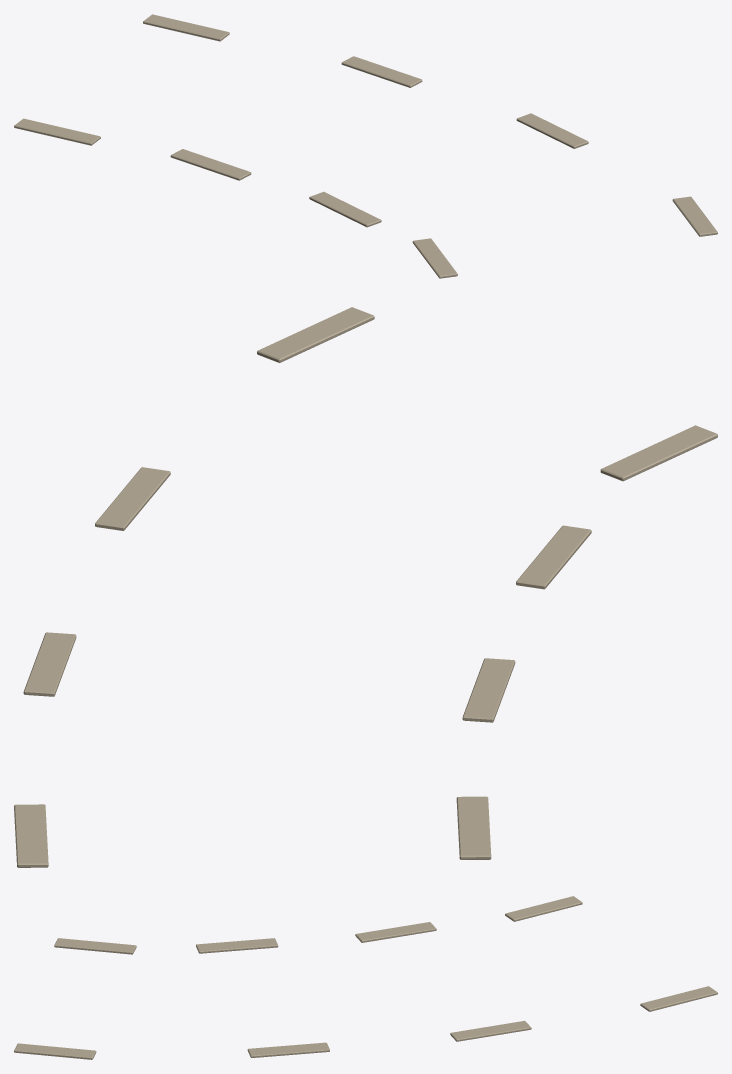
File: Sector4_SandstoneTrim_1.fbx
3 renders of one model, top to bottom at view 1: azimuth 30°, elevation 25°; view 2: azimuth 150°, elevation 25°; view 3: azimuth 270°, elevation 25°, orthographic. The views are drawn at different scales.
Parts seen in each view (by area): view 1: Sector4_SandstoneTrim_1; view 2: Sector4_SandstoneTrim_1; view 3: Sector4_SandstoneTrim_1.
Boxes of the visible parts, x1=… form: Sector4_SandstoneTrim_1: x1=14, y1=14, x2=717, y2=278; Sector4_SandstoneTrim_1: x1=14, y1=307, x2=717, y2=867; Sector4_SandstoneTrim_1: x1=14, y1=896, x2=717, y2=1059.
Size of the model in its own units: 13687 by 803 by 22314.
